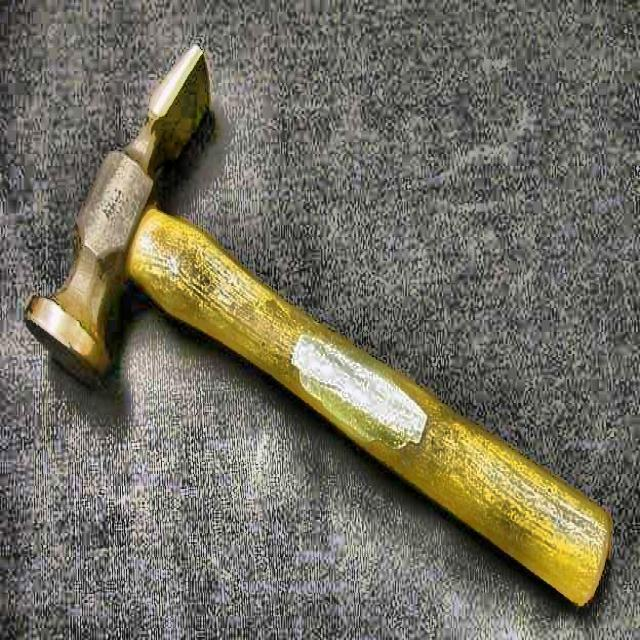hammer: (27, 45, 612, 612)
